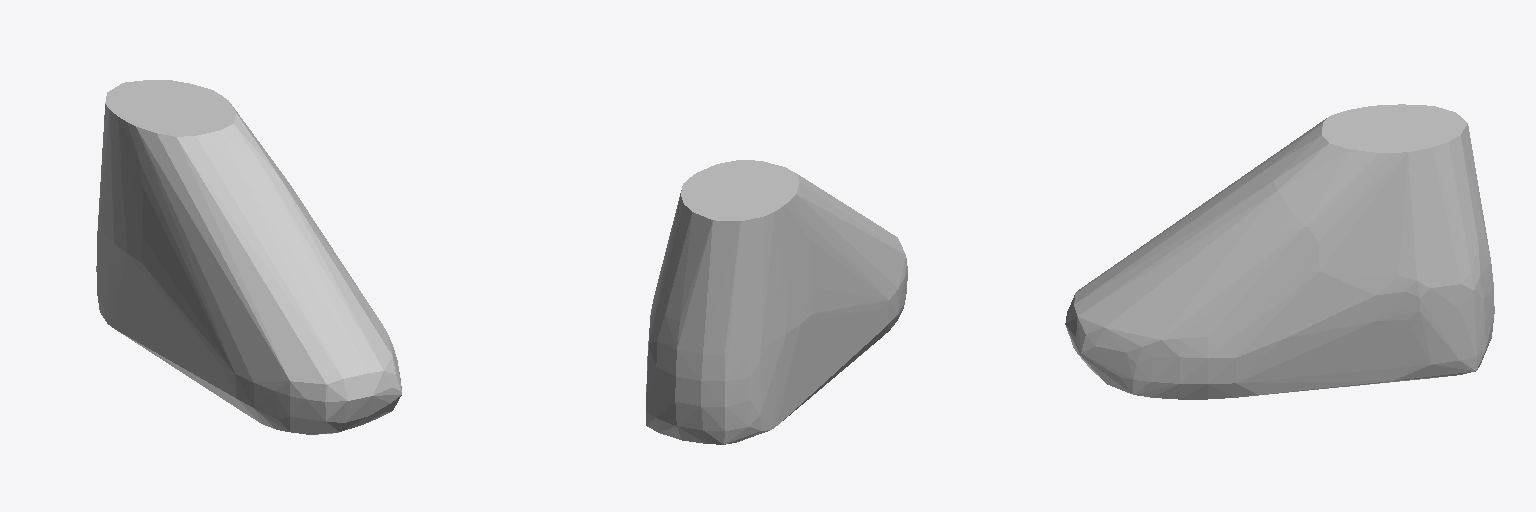
The model's file is woman_collision_2.obj.
3 views of the same model, side by side, from view 1: azimuth 30°, elevation 25°; view 2: azimuth 150°, elevation 25°; view 3: azimuth 270°, elevation 25° (orthographic).
Size of the model in its own units: 12.22 by 16.46 by 28.11.